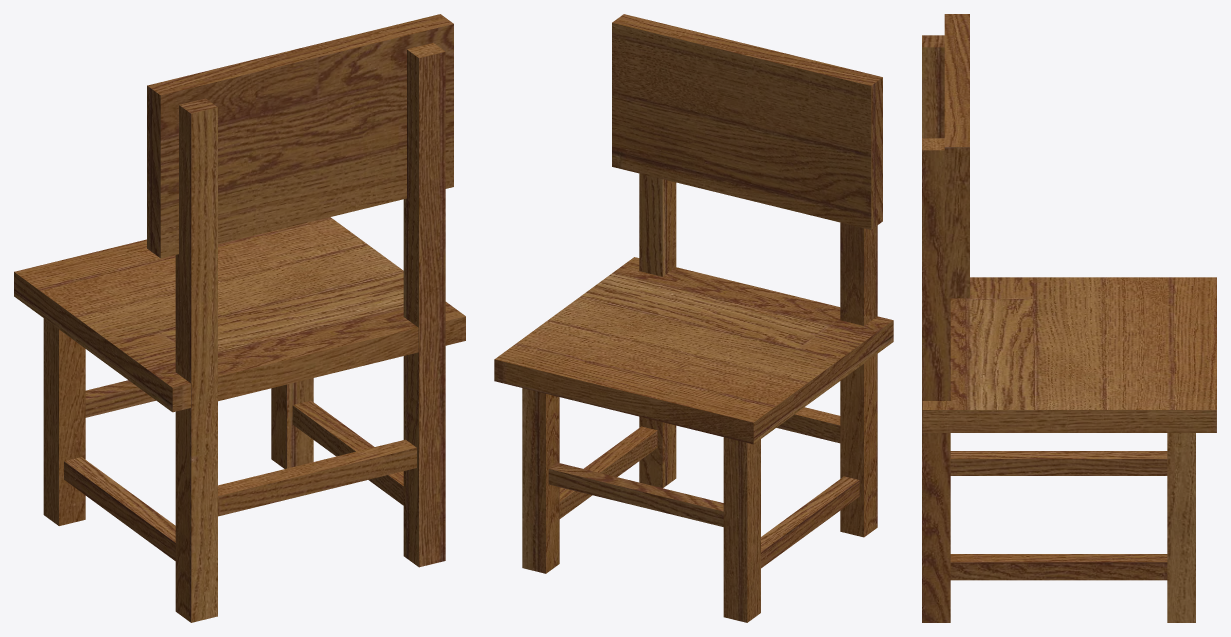
File: chair.glb
3 views of the same model, side by side, from view 1: azimuth 30°, elevation 25°; view 2: azimuth 150°, elevation 25°; view 3: azimuth 270°, elevation 25° (orthographic). The views are drawn at different scales.
Parts seen in each view (by area): view 1: Cube; view 2: Cube; view 3: Cube.
Boxes of the visible parts, x1,y1,x2,y2 form: Cube: (14, 14, 465, 622); Cube: (494, 14, 893, 622); Cube: (922, 14, 1216, 622).
Size of what is drawn, in the model's own units: 0.6829 by 1.16 by 0.6402.
1 material, 1 textured.
